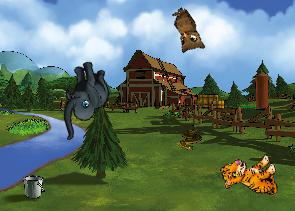elephant: (46, 57, 120, 140)
owl: (160, 5, 209, 59)
tiger: (218, 148, 283, 207)
